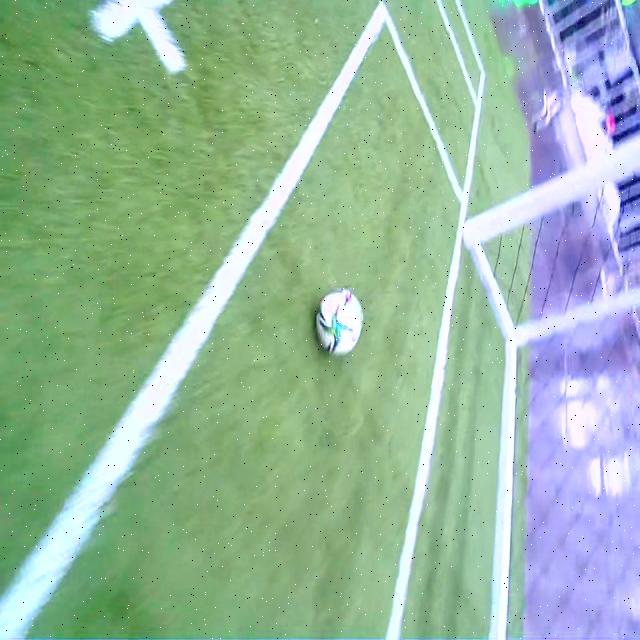ball: (316, 286, 361, 356)
